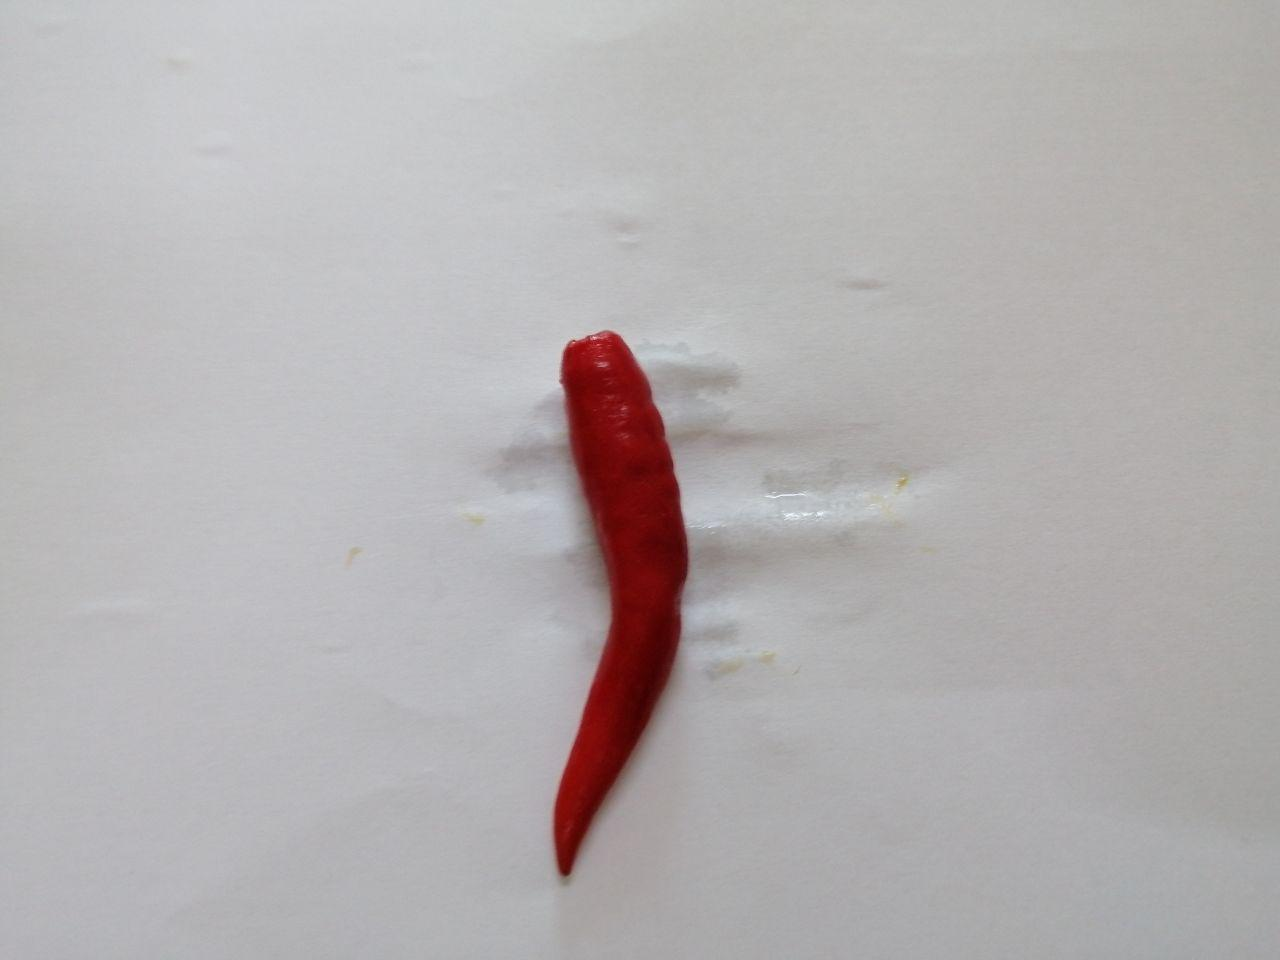lada merah: (487, 293, 715, 881)
